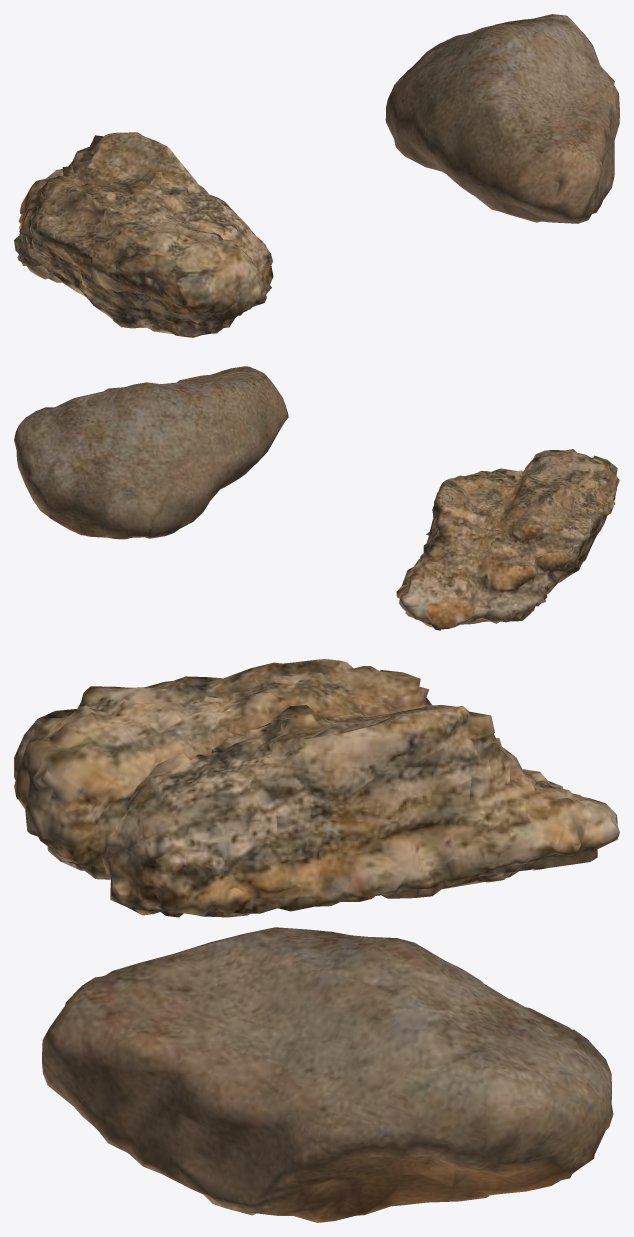
Rendered from rock-sandstone-group.faa2ef83.glb.
3 renders of one model, top to bottom at view 1: azimuth 30°, elevation 25°; view 2: azimuth 150°, elevation 25°; view 3: azimuth 270°, elevation 25°, orthographic. The views are drawn at different scales.
Parts seen in each view (by area): view 1: model; view 2: model; view 3: model.
Boxes of the visible parts, x1,y1,x2,y2 form: model: [14, 14, 619, 337]; model: [14, 366, 619, 630]; model: [14, 659, 619, 1222].
Bounding box in the file's own units: 1.06 × 0.2512 × 0.5838.
1 material, 1 textured.
